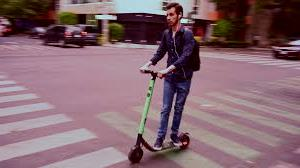nonhelmet: (124, 1, 203, 164)
